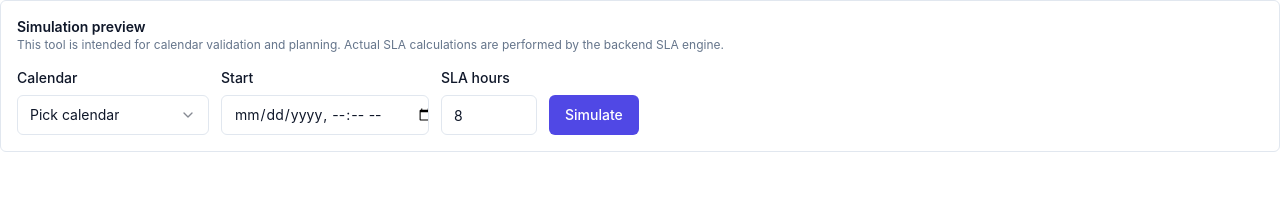
Test: SlaSimulationPanel › surfaces an error when no calendar is picked
This screenshot has width=1280, height=201.
Click the button "Simulate" at (594, 115), box x1=549 y1=95 x2=639 y2=135
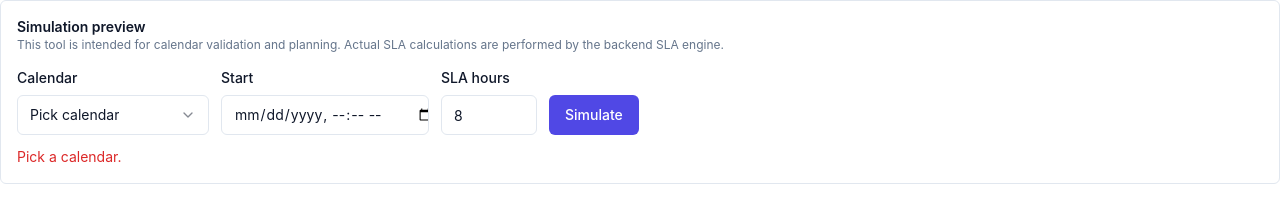
Check: the text "Pick a calendar." is shown, box x1=17 y1=148 x2=121 y2=165
